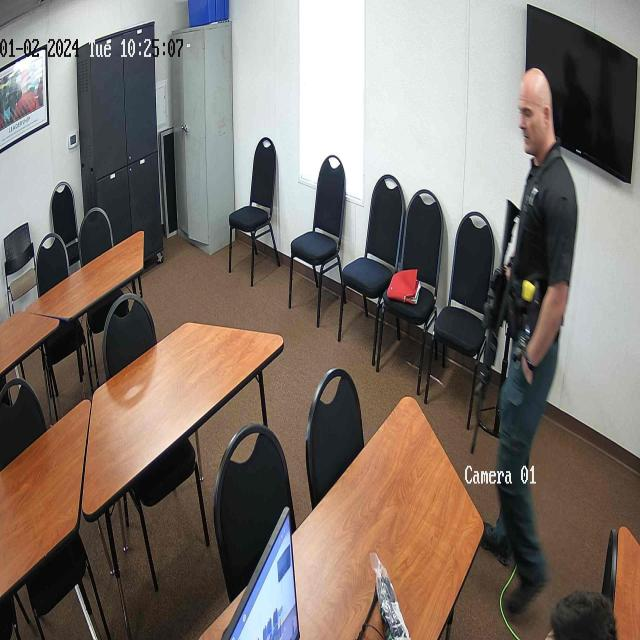weapon: (469, 200, 522, 454)
